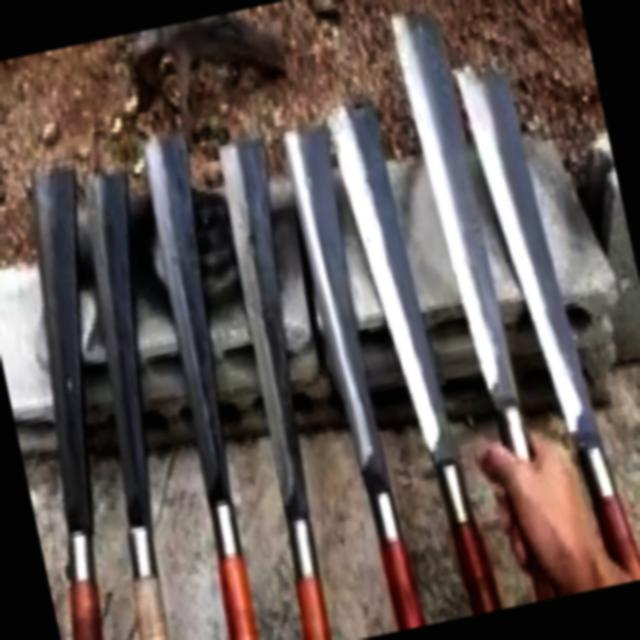eto: (383, 3, 560, 603), (450, 65, 640, 584), (316, 93, 503, 616), (278, 116, 428, 629), (140, 132, 257, 640), (219, 144, 331, 640), (79, 161, 169, 640), (27, 156, 103, 640)
